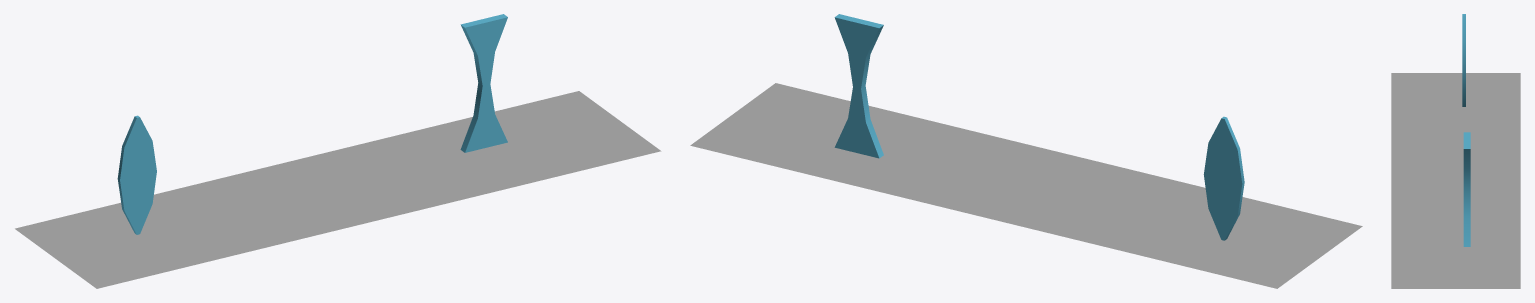
Rendered from level15a.fbx.
The picture shows the model from 3 angles, left to right: view 1: azimuth 30°, elevation 25°; view 2: azimuth 150°, elevation 25°; view 3: azimuth 270°, elevation 25°; orthographic projection. The views are drawn at different scales.
Visible parts, largest first — view 1: pPlane1, concave1, convex1; view 2: pPlane1, concave1, convex1; view 3: pPlane1, concave1, convex1.
Part boxes in pixels (<box>): pPlane1: <box>15,91,661,288</box>; concave1: <box>460,14,507,152</box>; convex1: <box>117,115,156,234</box>; pPlane1: <box>690,83,1362,288</box>; concave1: <box>834,14,883,158</box>; convex1: <box>1203,116,1244,240</box>; pPlane1: <box>1391,73,1520,288</box>; concave1: <box>1463,132,1470,246</box>; convex1: <box>1462,14,1465,106</box>.
Size of the model in its own units: 54.81 by 11.71 by 13.85.
